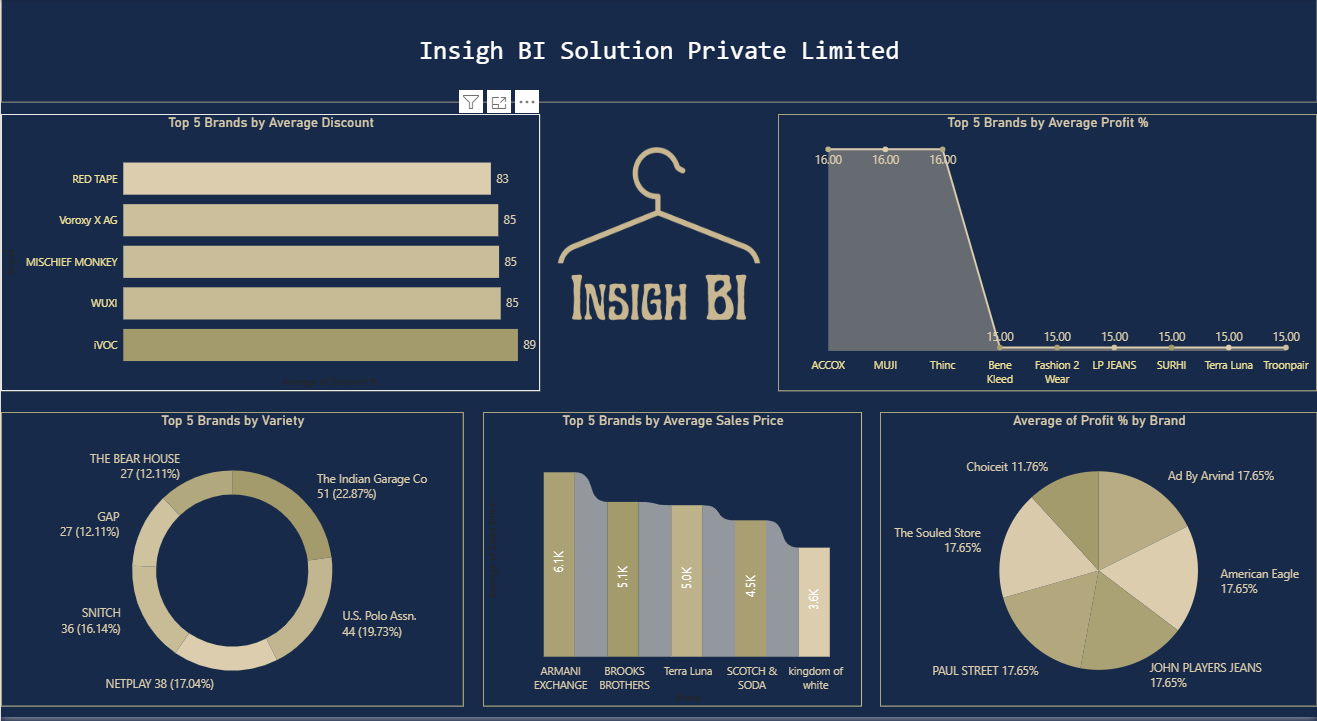

This screenshot's page, from the dashboard's own definition file:
{"tool":"powerbi","page":{"name":"Details Overview","canvas":[1980,1080],"ordinal":1},"visuals":[{"type":"shape","box":[0,0,1980.4,155.6],"z":0},{"type":"barChart","title":"Top 5 Brands by Average Discount","fields":{"Category":["Tshirt.Brand"],"Y":["Avg(Tshirt.Discount %)"]},"box":[0,172.4,810.8,417.5],"z":1},{"type":"donutChart","title":"Top 5 Brands by Variety","fields":{"Category":["Tshirt.Brand"],"Y":["Count(Tshirt.Title)"]},"box":[0,621.7,695.8,443.2],"z":2},{"type":"columnChart","title":"Top 5 Brands by Average Sales Price","fields":{"Category":["Tshirt.Brand"],"Y":["Avg(Tshirt.Sales Price)"]},"box":[724.5,621.7,570.3,443.2],"z":3},{"type":"areaChart","title":"Top 5 Brands by Average Profit %","fields":{"Category":["Tshirt.Brand"],"Y":["Avg(Tshirt.Profit %)"]},"box":[1169.2,172.4,810.8,417.5],"z":4},{"type":"pieChart","fields":{"Category":["Tshirt.Brand"],"Y":["Avg(Tshirt.Profit %)"]},"box":[1322,621.7,658,443.2],"z":5}]}

Visuals, with their boxes in screenshot pixels (x1, y1, x2, y2), scaled from the page's 1980x1080 canvas onto the 1317x721 screenshot:
shape: x1=0, y1=0, x2=1316, y2=104
"Top 5 Brands by Average Discount" barChart: x1=0, y1=115, x2=539, y2=394
"Top 5 Brands by Variety" donutChart: x1=0, y1=415, x2=463, y2=711
"Top 5 Brands by Average Sales Price" columnChart: x1=482, y1=415, x2=861, y2=711
"Top 5 Brands by Average Profit %" areaChart: x1=778, y1=115, x2=1316, y2=394
pieChart - Tshirt.Brand x Avg(Tshirt.Profit %): x1=879, y1=415, x2=1316, y2=711
